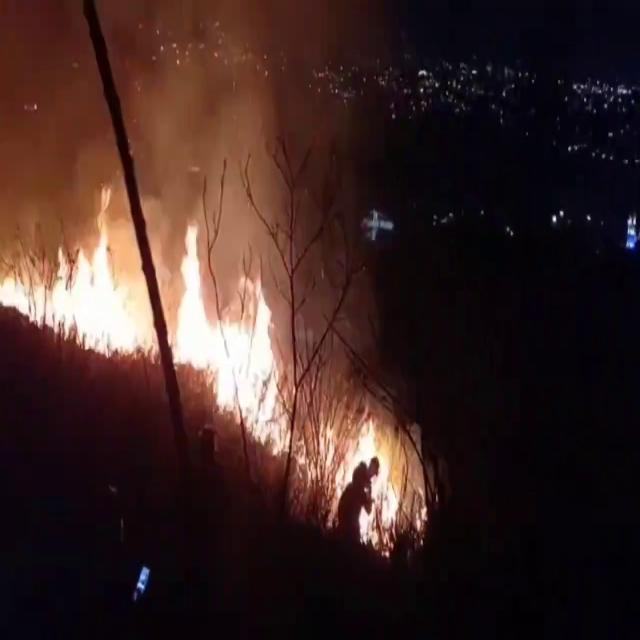Fire: (169, 212, 289, 446), (0, 201, 148, 364), (326, 399, 404, 547)
Smoke: (0, 0, 396, 270)
